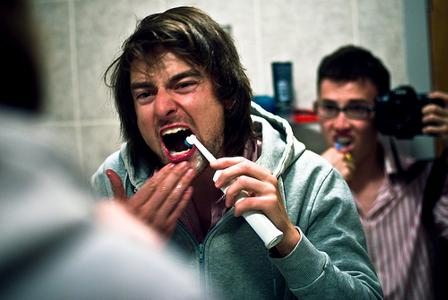person: (88, 5, 383, 300)
